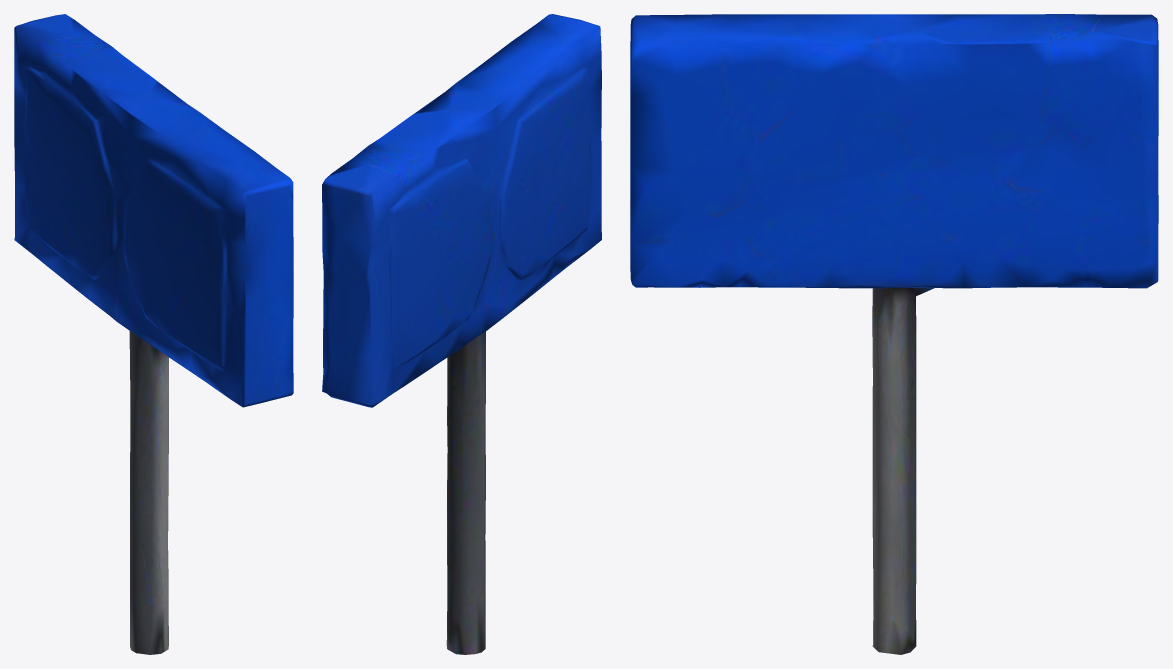
The model's file is placa.glb.
3 views of the same model, side by side, from view 1: azimuth 30°, elevation 25°; view 2: azimuth 150°, elevation 25°; view 3: azimuth 270°, elevation 25° (orthographic). The views are drawn at different scales.
Parts seen in each view (by area): view 1: tripo_node_32802a7a-acc3-47de-aa1e-23603baee3dc; view 2: tripo_node_32802a7a-acc3-47de-aa1e-23603baee3dc; view 3: tripo_node_32802a7a-acc3-47de-aa1e-23603baee3dc.
Part boxes in pixels (<box>): tripo_node_32802a7a-acc3-47de-aa1e-23603baee3dc: <box>14,14,293,654</box>; tripo_node_32802a7a-acc3-47de-aa1e-23603baee3dc: <box>322,14,601,654</box>; tripo_node_32802a7a-acc3-47de-aa1e-23603baee3dc: <box>630,14,1158,654</box>.
Bounding box in the file's own units: 0.1204 × 1 × 0.7719.
Materials: 1 (1 with a texture image).
